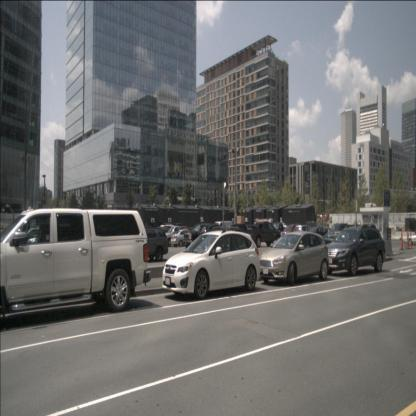movable_object-trafficcone: (400, 229, 404, 250), (410, 228, 414, 249), (406, 231, 410, 250), (407, 229, 410, 246)
vehicle-car: (0, 207, 152, 318), (161, 228, 260, 300), (258, 231, 330, 286), (324, 224, 386, 277), (121, 226, 168, 262), (183, 222, 222, 249), (245, 221, 281, 248), (197, 223, 229, 249), (321, 230, 352, 251), (326, 223, 353, 241), (171, 230, 197, 248), (280, 224, 303, 241), (308, 226, 330, 242)
vehicle-truck: (161, 226, 195, 247), (293, 224, 315, 242), (271, 222, 290, 237)
